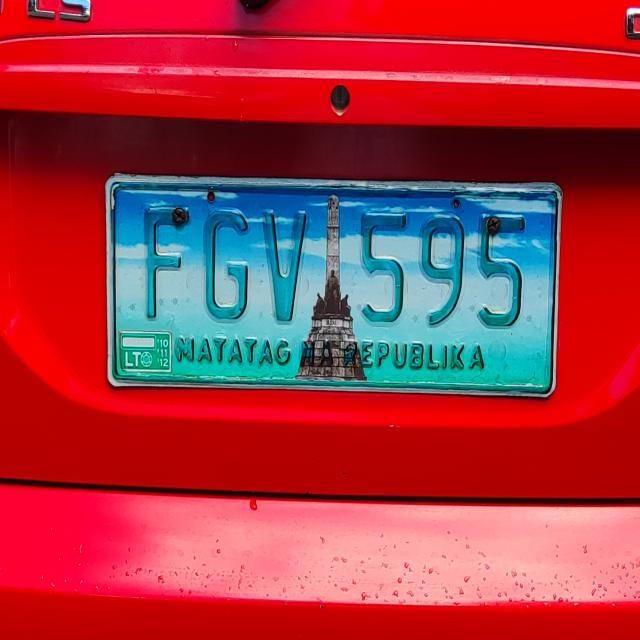plate: (99, 165, 569, 404)
